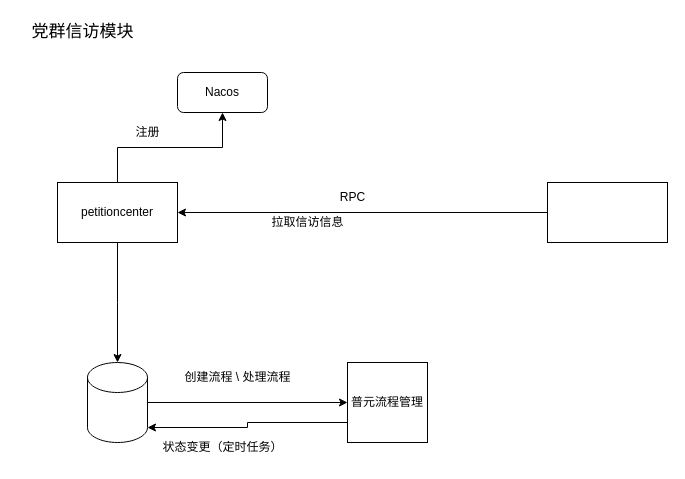
Some shapes in this 685 by 479 pixel diagram are drawn without their labels. Each missing label, with the box of its shape:
MySQL: (86, 362, 148, 442)
协同平台: (546, 182, 668, 242)
